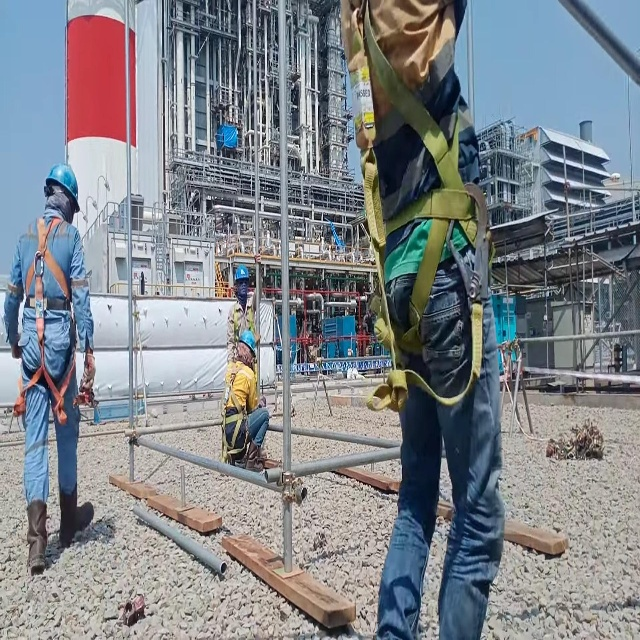Arnes_seguridad: (341, 1, 486, 411), (13, 213, 76, 429), (221, 368, 248, 464)
